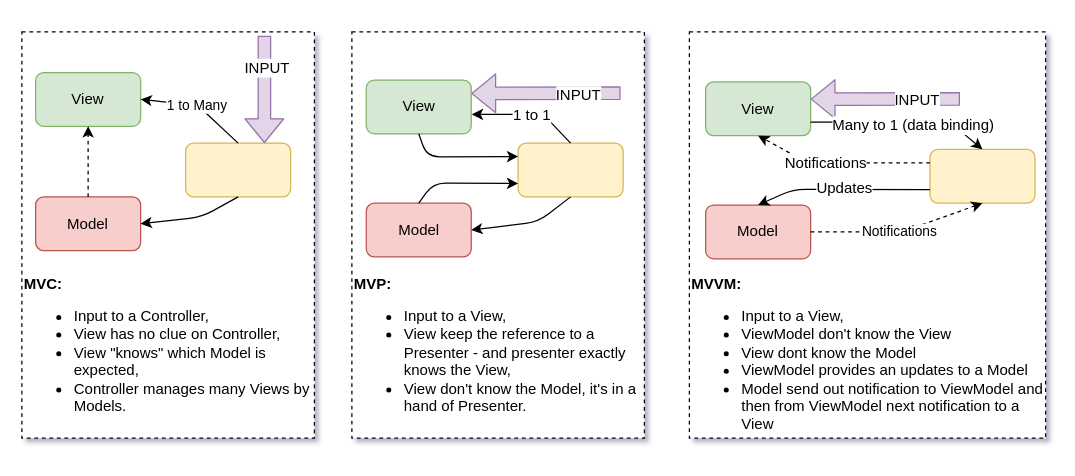
Some shapes in this 1075 by 476 pixel diagram are drawn without their labels. Each missing label, with the box of its shape:
Controller: (184, 142, 291, 197)
Presenter: (517, 142, 623, 197)
ViewModel: (929, 148, 1035, 203)
